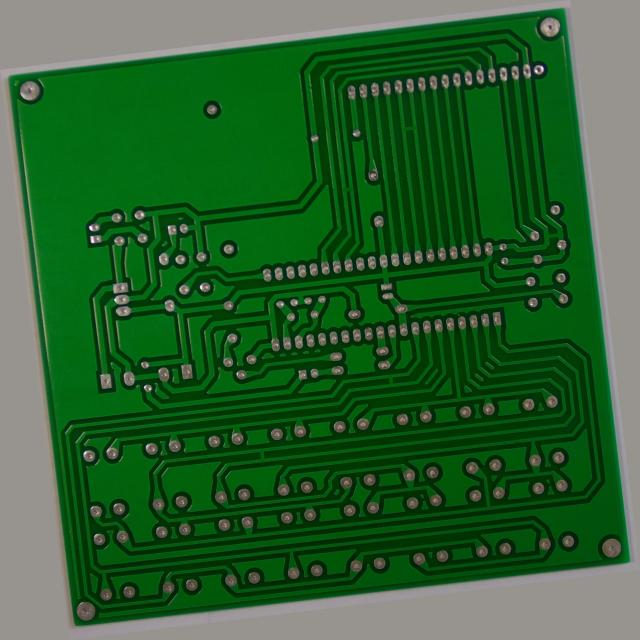short: (575, 247, 604, 267), (431, 112, 455, 126), (382, 385, 397, 406), (359, 172, 377, 188), (230, 451, 243, 472)
